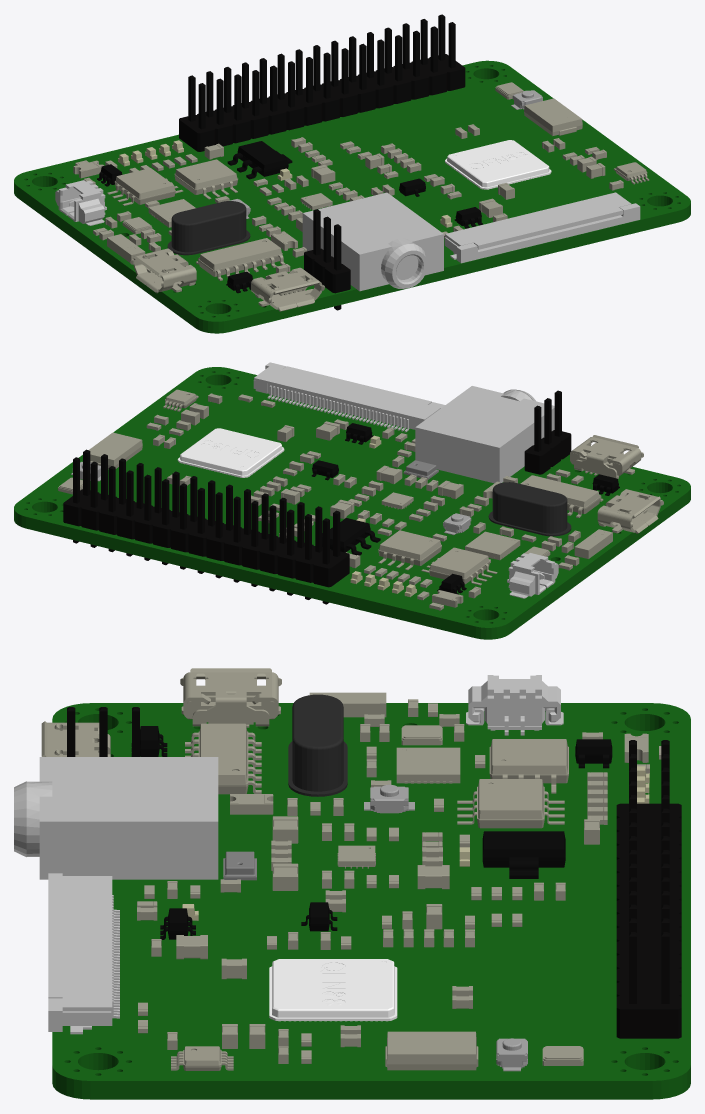
Rendered from lightboard-zero.dae.
The picture shows the model from 3 angles, top to bottom: view 1: azimuth 30°, elevation 25°; view 2: azimuth 150°, elevation 25°; view 3: azimuth 270°, elevation 25°; orthographic projection. The views are drawn at different scales.
Parts seen in each view (by area): view 1: node0, node107, node55, node5, node63, node76, node41, node58, node85, node56, node26, node31 (+6 smaller); view 2: node0, node107, node55, node5, node63, node76, node41, node58, node56, node26, node86, node31 (+10 smaller); view 3: node0, node55, node107, node5, node76, node63, node56, node26, node86, node62, node85, node47 (+21 smaller).
Part boxes in pixels (x1,y1,x2,y2): node0: [14, 60, 690, 333]; node107: [179, 14, 465, 151]; node55: [302, 192, 443, 291]; node5: [444, 192, 640, 263]; node63: [167, 201, 250, 255]; node76: [445, 140, 551, 189]; node41: [304, 209, 350, 310]; node58: [251, 267, 324, 311]; node85: [196, 238, 285, 280]; node56: [130, 248, 196, 293]; node26: [55, 180, 106, 225]; node31: [107, 168, 183, 205]; node0: [14, 367, 690, 639]; node107: [63, 449, 349, 604]; node55: [415, 386, 554, 483]; node5: [253, 362, 445, 432]; node63: [488, 482, 571, 536]; node76: [177, 428, 284, 477]; node41: [524, 390, 571, 474]; node58: [570, 435, 643, 478]; node56: [597, 489, 663, 533]; node26: [507, 553, 558, 598]; node86: [378, 530, 441, 570]; node31: [421, 547, 497, 585]; node0: [52, 703, 690, 1099]; node55: [14, 757, 218, 879]; node107: [616, 740, 681, 1038]; node5: [48, 873, 119, 1034]; node76: [269, 959, 397, 1021]; node63: [288, 694, 347, 796]; node56: [180, 668, 281, 727]; node26: [466, 675, 563, 735]; node86: [457, 779, 564, 828]; node62: [385, 1031, 478, 1070]; node85: [185, 723, 261, 794]; node47: [482, 831, 565, 878].
Size of the model in its own units: 0.0708 by 0.053 by 0.0119.
